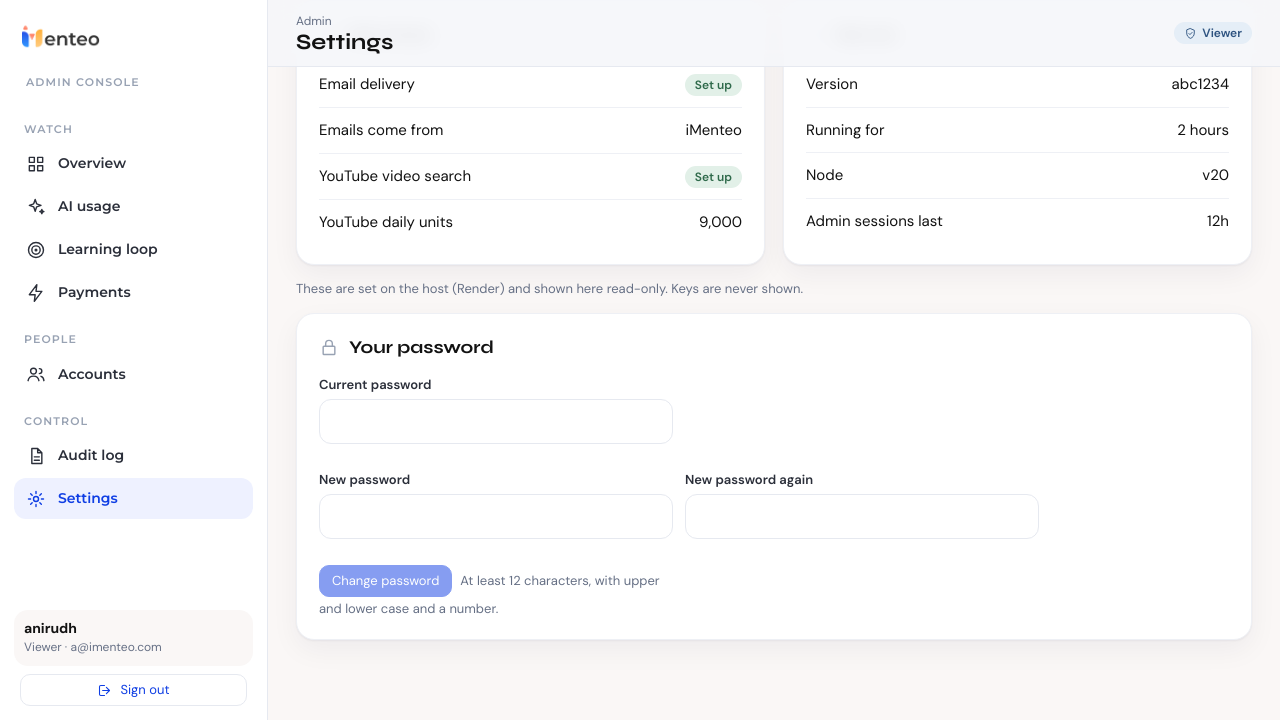
Test: admins and your password › changing your password checks the two match, then keeps you signed in with the new session
The image size is (1280, 720).
(page scrolled)
Type "OldPassword123" into the password field labelled "Current password".
click(496, 421); type("OldPassword123")  # box 319,399 -> 673,444
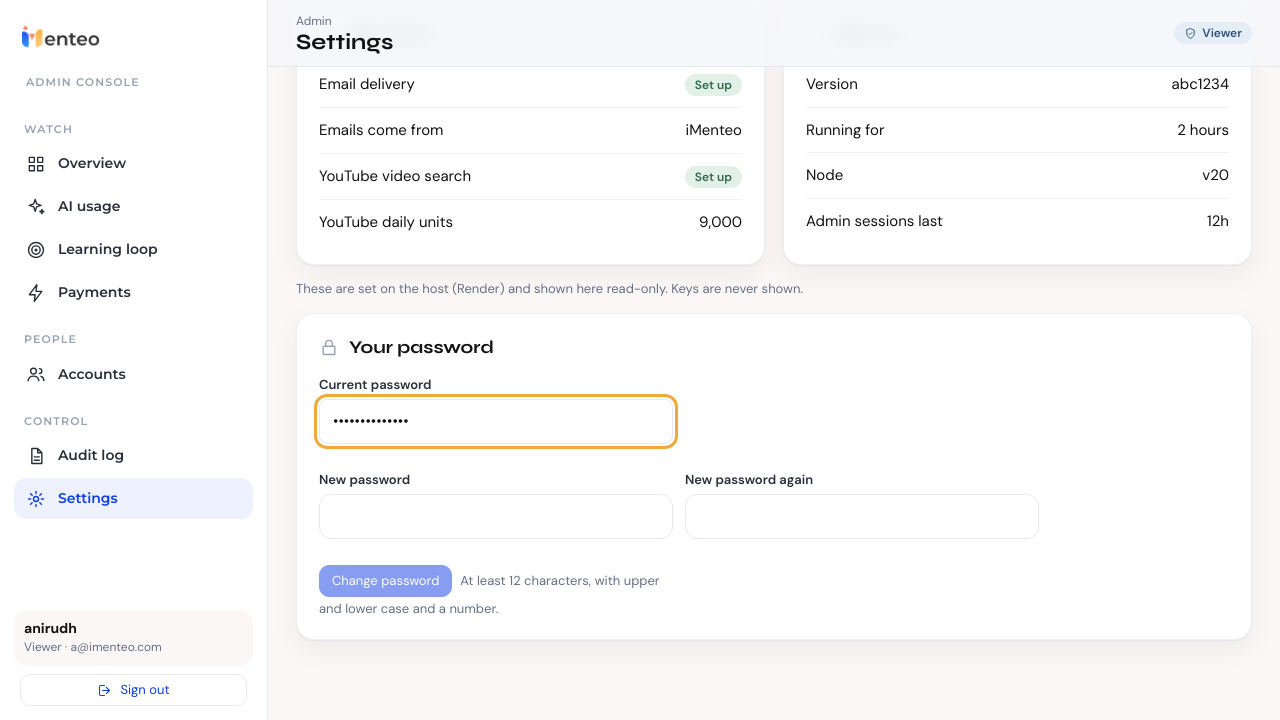
Type "NewPassword1234" into the password field labelled "New password".
click(496, 516); type("NewPassword1234")  # box 319,494 -> 673,539
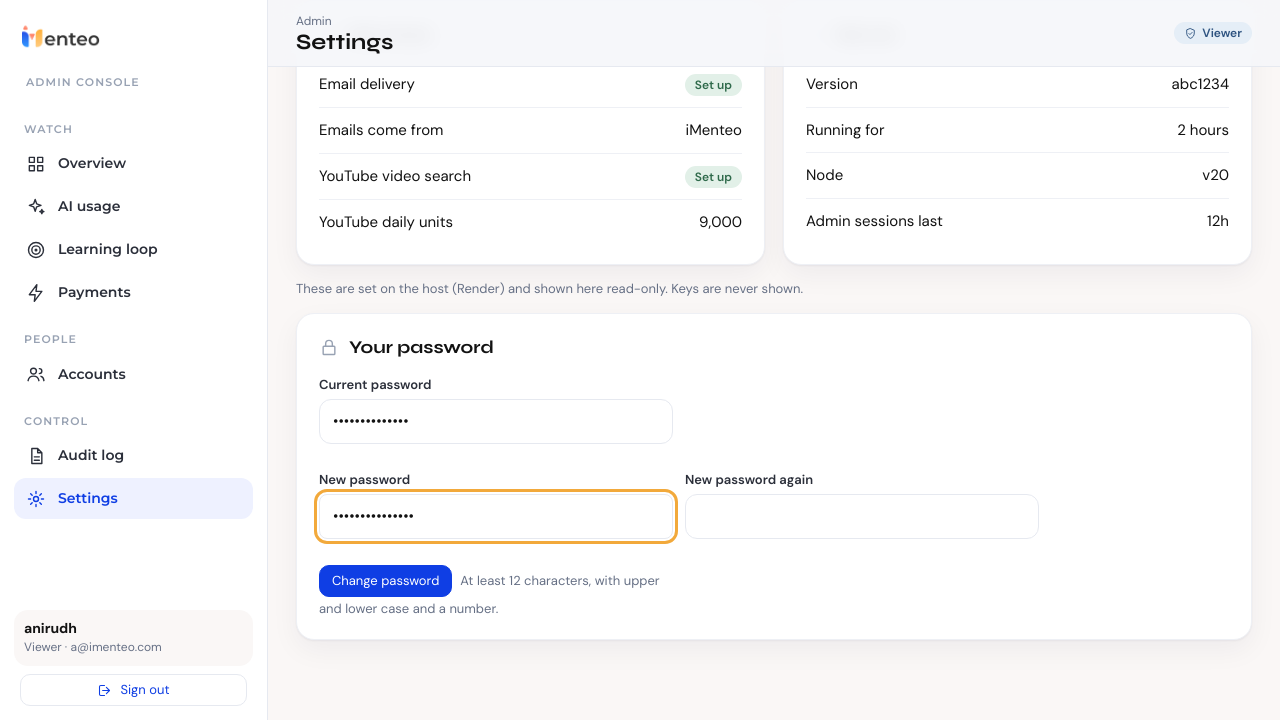
Type "Different12345" into the password field labelled "New password again".
click(862, 516); type("Different12345")  # box 685,494 -> 1039,539
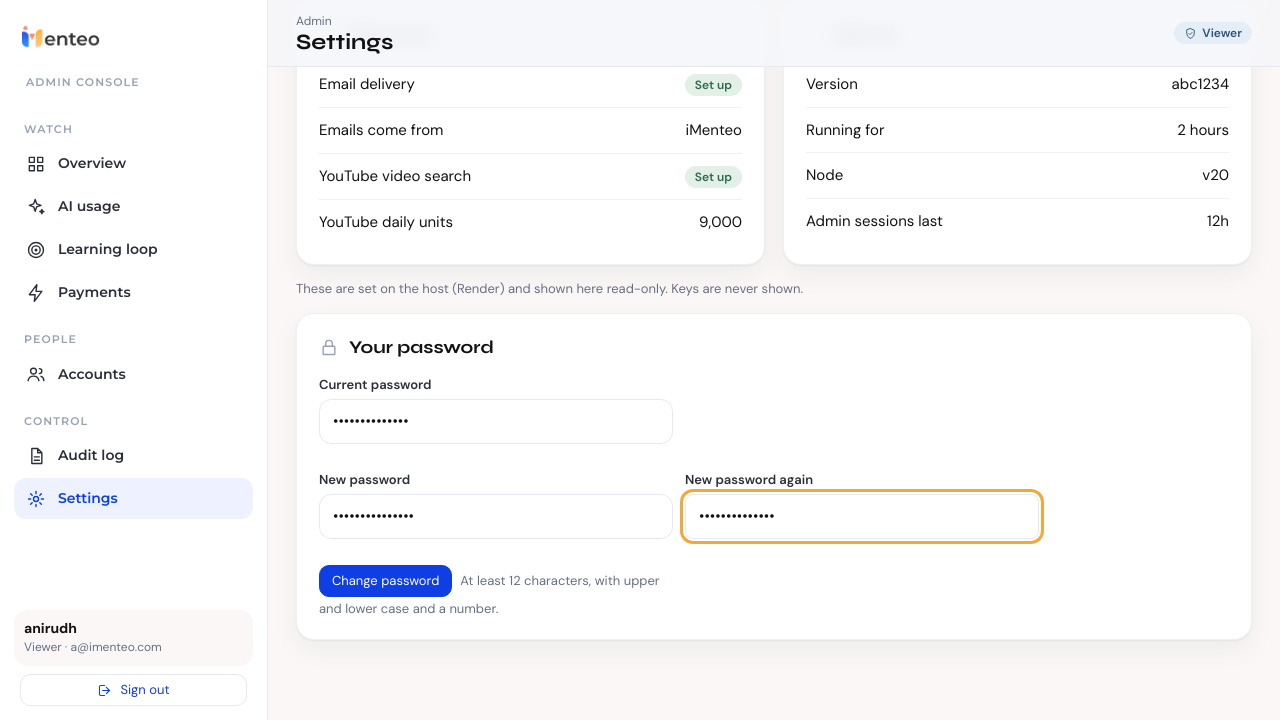
Click the button "Change password".
click(386, 581)  # box 319,565 -> 452,597
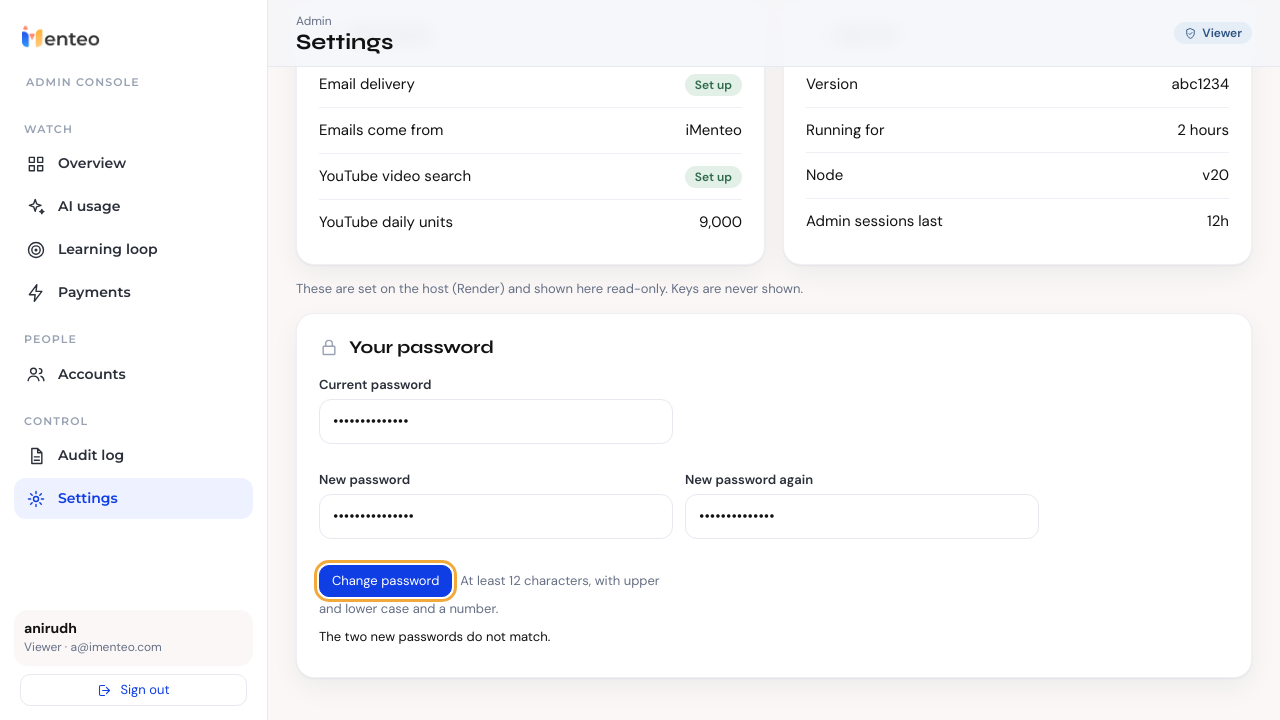
Expected: the text "The two new passwords do not match." is shown, 319,628 -> 550,645
Type "NewPassword1234" into the password field labelled "New password again".
click(862, 516); type("NewPassword1234")  # box 685,494 -> 1039,539
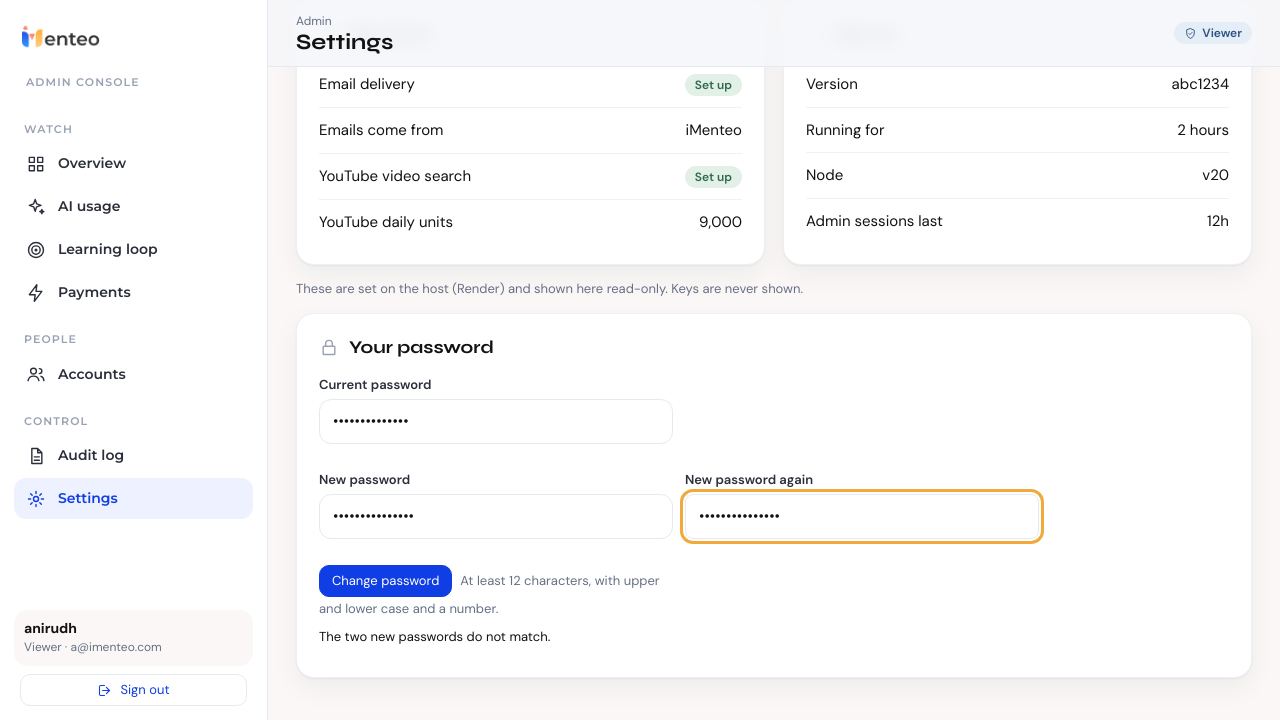
Click the button "Change password".
click(386, 581)  # box 319,565 -> 452,597
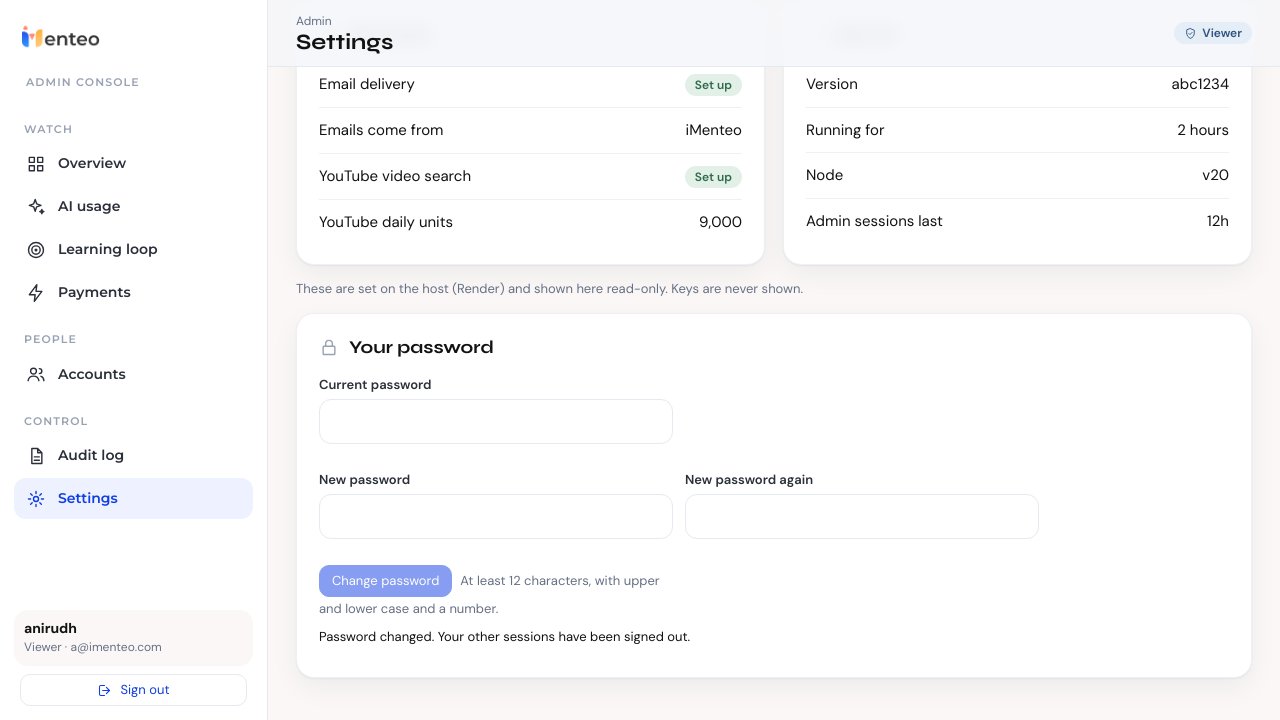
Expected: the text "Password changed. Your other sessions have been signed out." is shown, 319,628 -> 690,645
